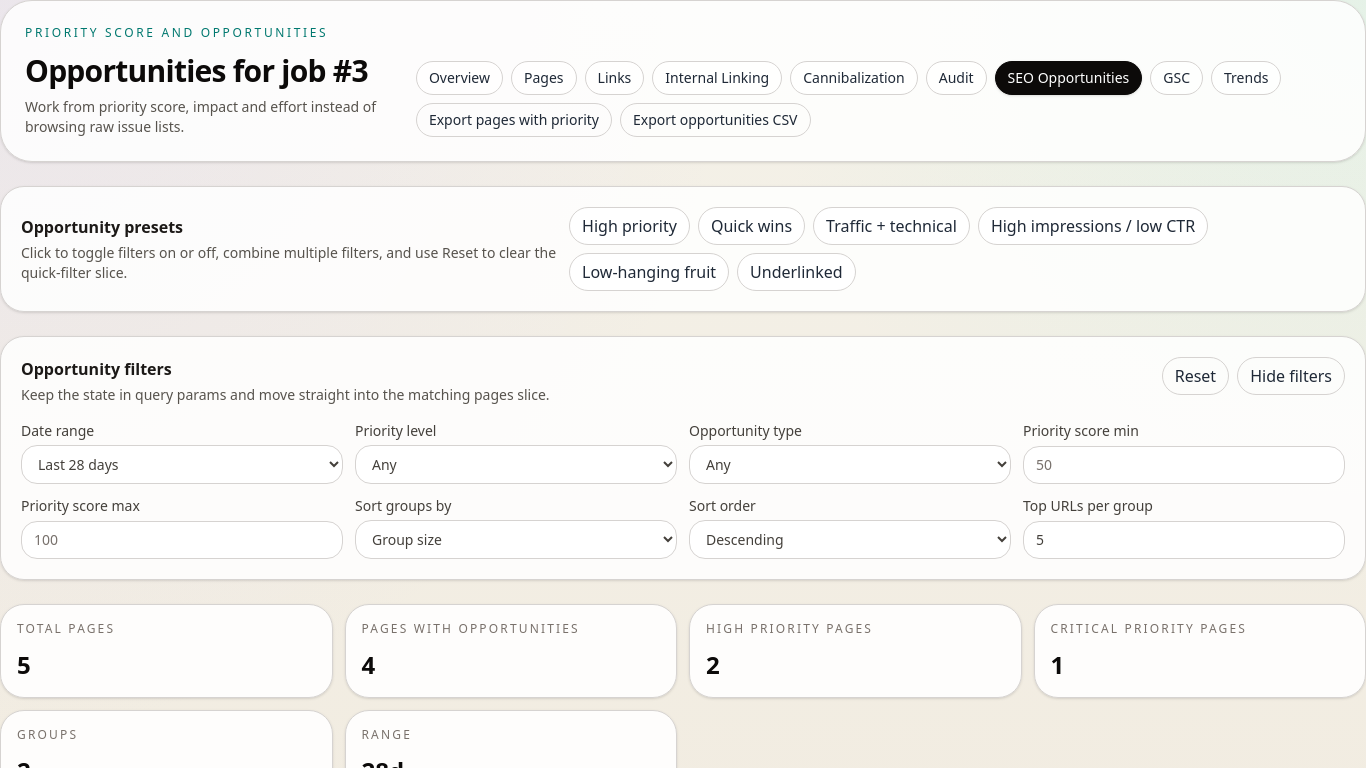
it: OpportunitiesPage › quick filters and deep links keep opportunity state in the URL
This screenshot has width=1366, height=768.
Click the button "High priority".
click(630, 226)  # box [569,207,690,245]
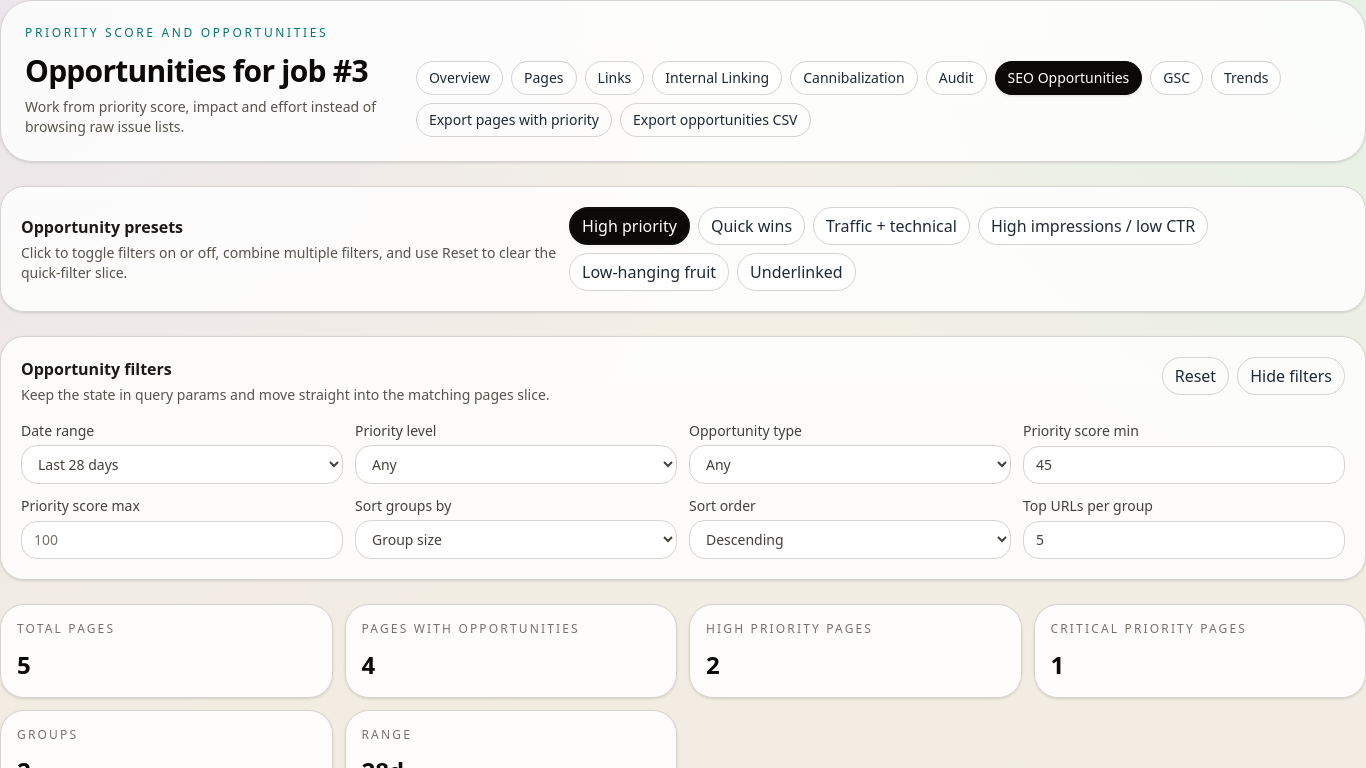
Click the button "Quick wins".
click(752, 226)  # box [698,207,805,245]
(page scrolled)
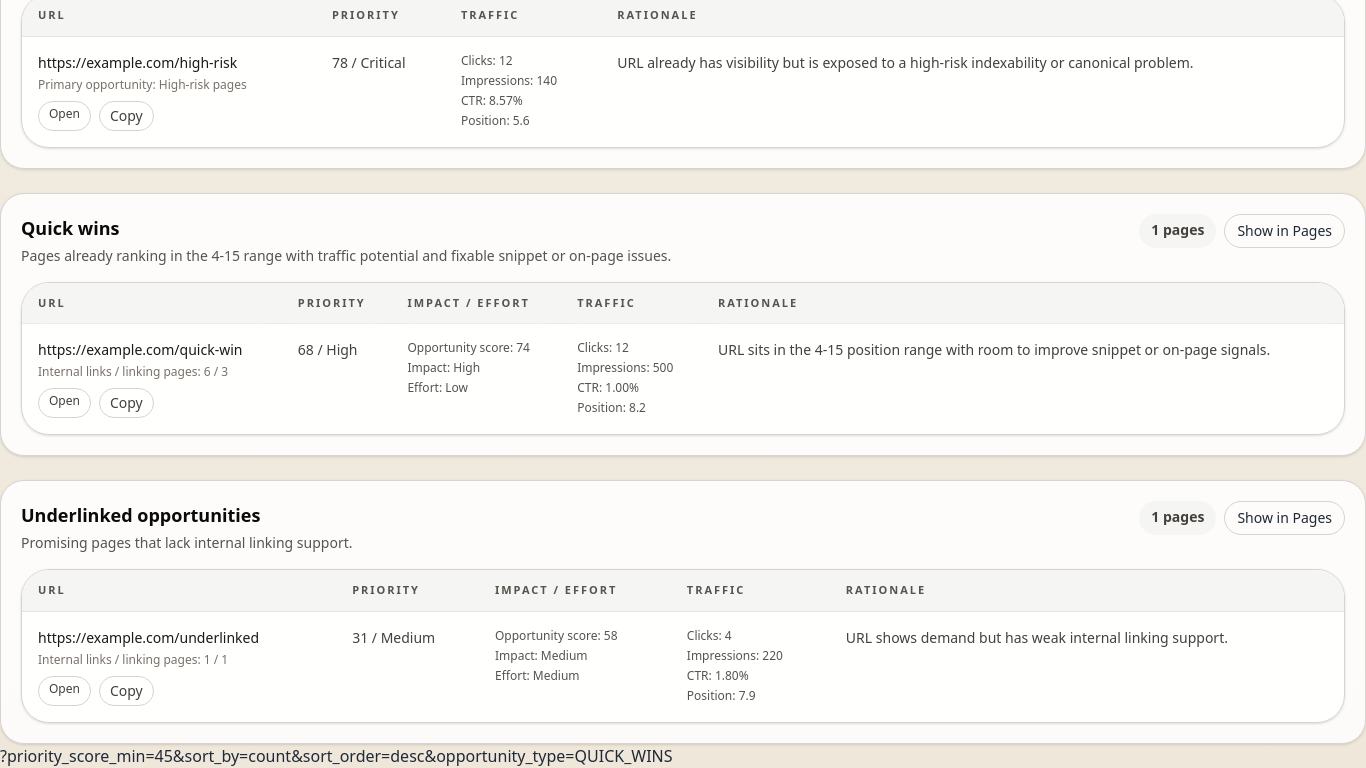
Now the text with test id "location-search" shows "opportunity_type=QUICK_WINS", box [0,744,672,766]
